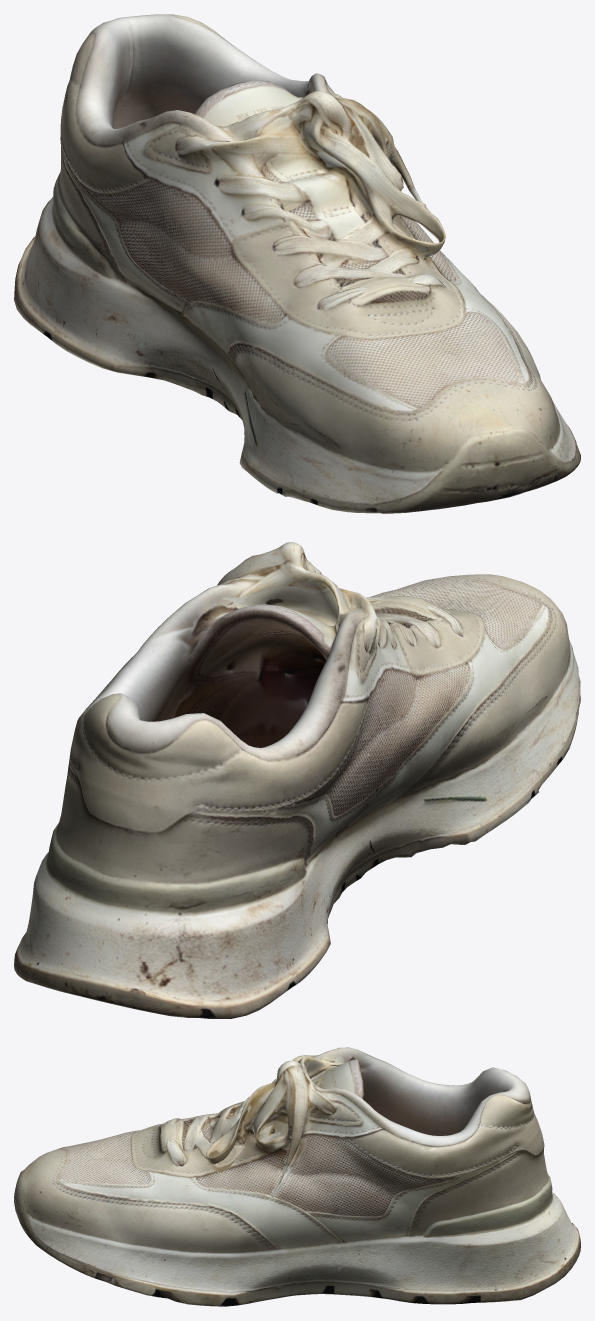
Rendered from Shoe.glb.
3 views of the same model, one above another, from view 1: azimuth 30°, elevation 25°; view 2: azimuth 150°, elevation 25°; view 3: azimuth 270°, elevation 25° (orthographic). The views are drawn at different scales.
Visible parts, largest first — view 1: BershkaNEW; view 2: BershkaNEW; view 3: BershkaNEW.
Boxes of the visible parts, box(x1,y1,x2,y2) form: BershkaNEW: box(14, 14, 580, 513); BershkaNEW: box(14, 542, 580, 1018); BershkaNEW: box(14, 1047, 580, 1306).
Size of the model in its own units: 0.1564 by 0.1653 by 0.4109.
Materials: 1 (1 with a texture image).
